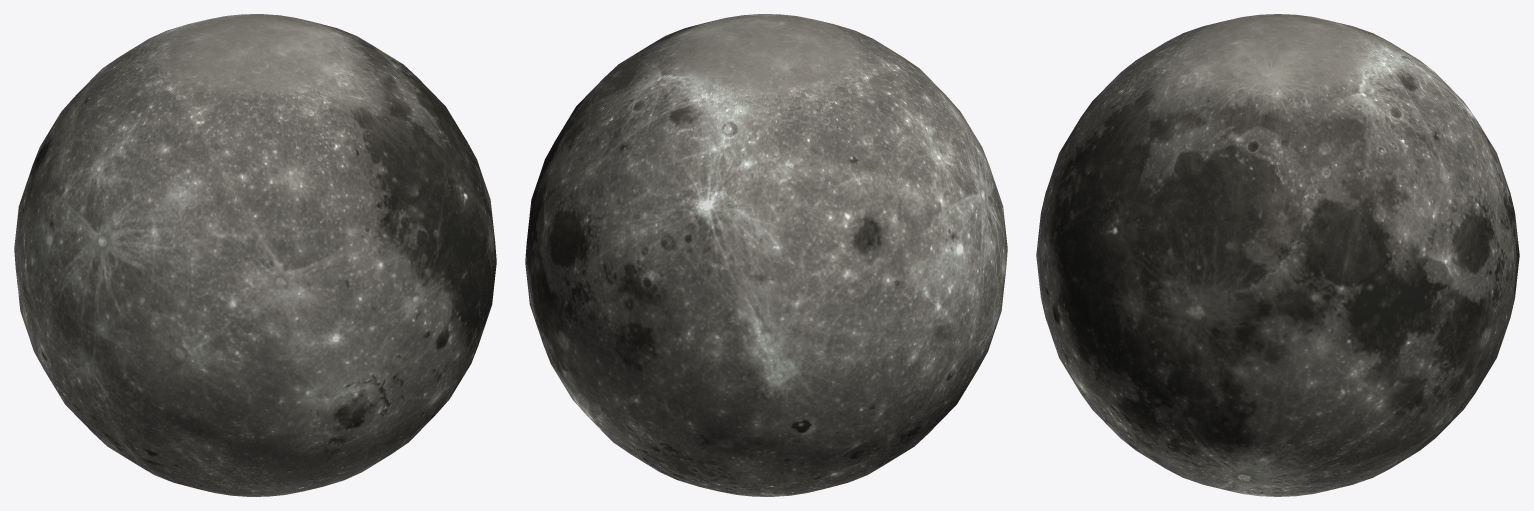
File: moon.obj
3 renders of one model, left to right at view 1: azimuth 30°, elevation 25°; view 2: azimuth 150°, elevation 25°; view 3: azimuth 270°, elevation 25°, orthographic.
Visible parts, largest first — view 1: Moon_Sphere; view 2: Moon_Sphere; view 3: Moon_Sphere.
Boxes of the visible parts, left/top/right/bottom form: Moon_Sphere: left=14, top=14, right=496, bottom=496; Moon_Sphere: left=525, top=14, right=1007, bottom=496; Moon_Sphere: left=1036, top=14, right=1519, bottom=496.
Size of the model in its own units: 1.4 by 1.4 by 1.4.
Materials: 1 (1 with a texture image).
